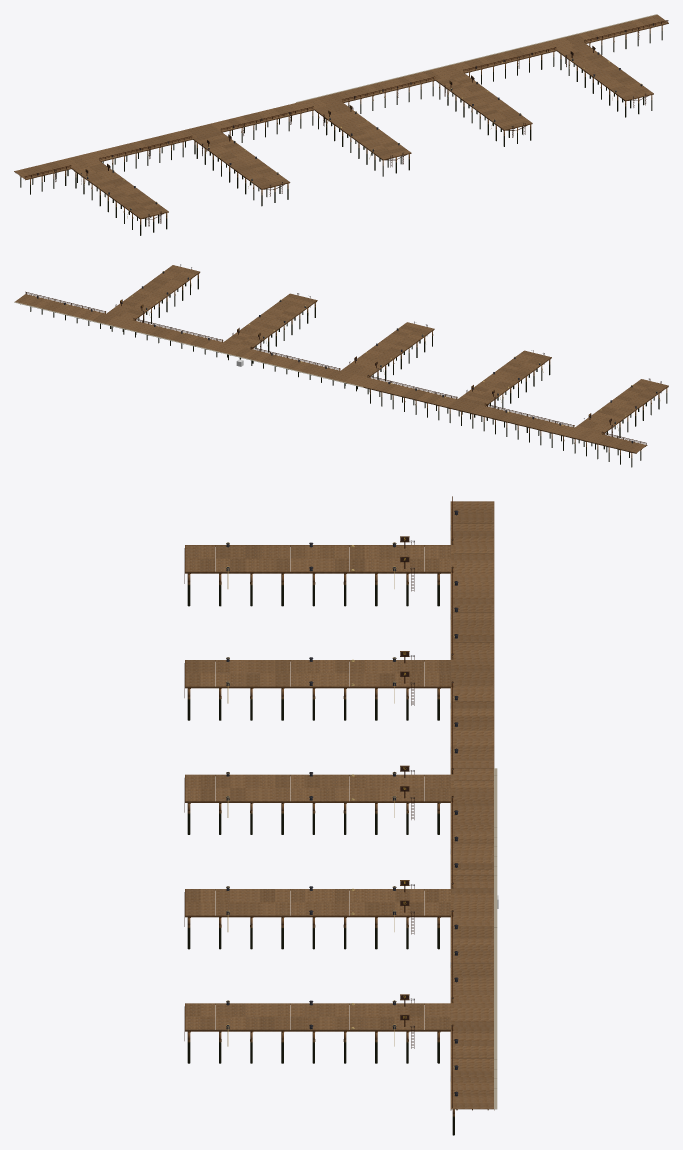
The model's file is docks.glb.
The picture shows the model from 3 angles, top to bottom: view 1: azimuth 30°, elevation 25°; view 2: azimuth 150°, elevation 25°; view 3: azimuth 270°, elevation 25°; orthographic projection. The views are drawn at different scales.
Visible parts, largest first — view 1: dock_J1_LOD0, dock_J3_LOD0, dock_J4_LOD0, dock_J2_LOD0, dock_J5_LOD0, dock_bw07_LOD0, dock_bw11_LOD0, dock_bw09_LOD0, dock_bw06_LOD0, dock_bw10_LOD0, dock_bw08_LOD0, dock_bw00_LOD0 (+5 smaller); view 2: dock_J1_LOD0, dock_J2_LOD0, dock_J4_LOD0, dock_J5_LOD0, dock_J3_LOD0, dock_bw11_LOD0, dock_bw09_LOD0, dock_bw07_LOD0, dock_bw06_LOD0, dock_bw08_LOD0, dock_bw10_LOD0, dock_bw00_LOD0 (+5 smaller); view 3: dock_J1_LOD0, dock_J2_LOD0, dock_J3_LOD0, dock_J5_LOD0, dock_J4_LOD0, dock_bw11_LOD0, dock_bw09_LOD0, dock_bw10_LOD0, dock_bw08_LOD0, dock_bw07_LOD0, dock_bw06_LOD0, dock_bw05_LOD0 (+5 smaller).
Part boxes in pixels (x1,y1,x2,y2): dock_J1_LOD0: (71, 160, 168, 235); dock_J3_LOD0: (314, 102, 411, 176); dock_J4_LOD0: (435, 73, 532, 146); dock_J2_LOD0: (193, 131, 290, 206); dock_J5_LOD0: (556, 43, 653, 117); dock_bw07_LOD0: (356, 73, 427, 110); dock_bw11_LOD0: (597, 14, 668, 51); dock_bw09_LOD0: (476, 43, 548, 81); dock_bw06_LOD0: (296, 87, 367, 125); dock_bw10_LOD0: (537, 29, 608, 66); dock_bw08_LOD0: (416, 58, 488, 96); dock_bw00_LOD0: (14, 160, 71, 194); dock_J1_LOD0: (574, 378, 668, 449); dock_J2_LOD0: (457, 350, 551, 420); dock_J4_LOD0: (224, 293, 317, 363); dock_J5_LOD0: (107, 264, 200, 334); dock_J3_LOD0: (341, 321, 434, 391); dock_bw11_LOD0: (14, 291, 83, 323); dock_bw09_LOD0: (130, 320, 199, 351); dock_bw07_LOD0: (247, 348, 315, 379); dock_bw06_LOD0: (305, 362, 374, 394); dock_bw08_LOD0: (189, 334, 257, 365); dock_bw10_LOD0: (72, 306, 141, 337); dock_bw00_LOD0: (591, 431, 647, 467); dock_J1_LOD0: (184, 536, 454, 606); dock_J2_LOD0: (184, 651, 454, 720); dock_J3_LOD0: (184, 765, 453, 834); dock_J5_LOD0: (184, 994, 450, 1063); dock_J4_LOD0: (184, 880, 450, 949); dock_bw11_LOD0: (450, 1047, 497, 1135); dock_bw09_LOD0: (450, 933, 497, 995); dock_bw10_LOD0: (450, 990, 497, 1052); dock_bw08_LOD0: (450, 877, 497, 938); dock_bw07_LOD0: (450, 820, 497, 881); dock_bw06_LOD0: (450, 763, 497, 824); dock_bw05_LOD0: (450, 719, 494, 768).
Size of what is drawn, in the model's own units: 276 by 9.93 by 60.38.
3 materials, 1 textured.
